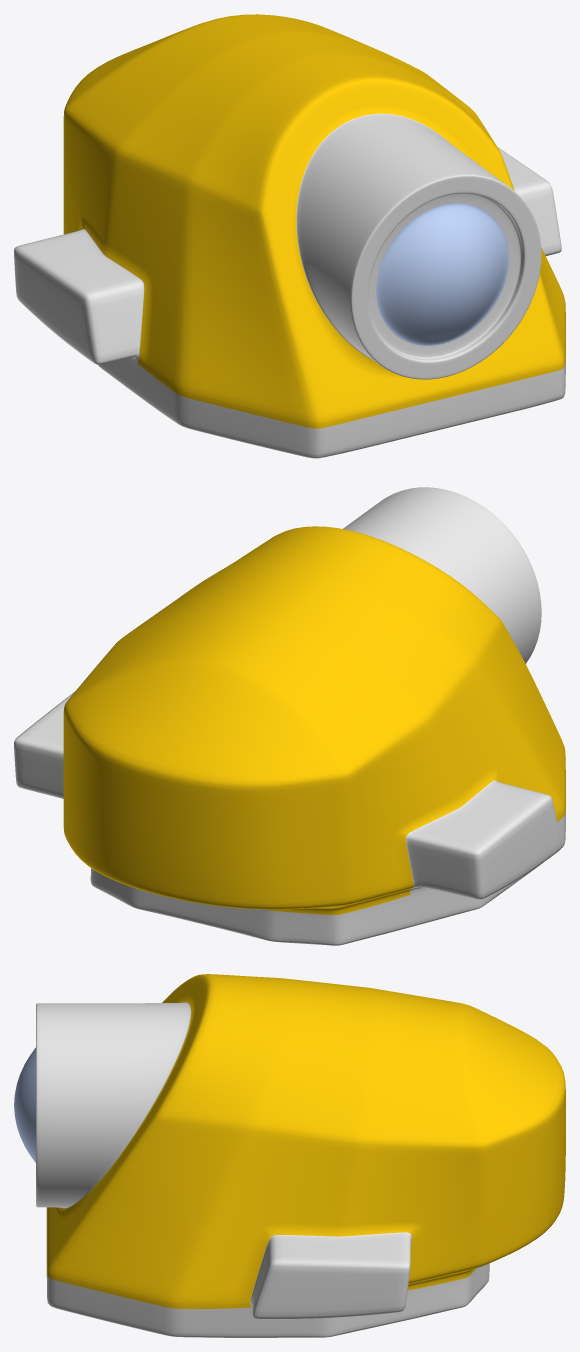
The model's file is SB_Player_Mech_UpperTorso_WithMaterials.fbx.
3 views of the same model, one above another, from view 1: azimuth 30°, elevation 25°; view 2: azimuth 150°, elevation 25°; view 3: azimuth 270°, elevation 25° (orthographic). The views are drawn at different scales.
Visible parts, largest first — view 1: Upper Torso; view 2: Upper Torso; view 3: Upper Torso.
Part boxes in pixels (x1,y1,x2,y2): Upper Torso: (14,14,565,458); Upper Torso: (14,487,565,945); Upper Torso: (14,974,565,1337).
Size of the model in its own units: 261 by 152 by 287.
